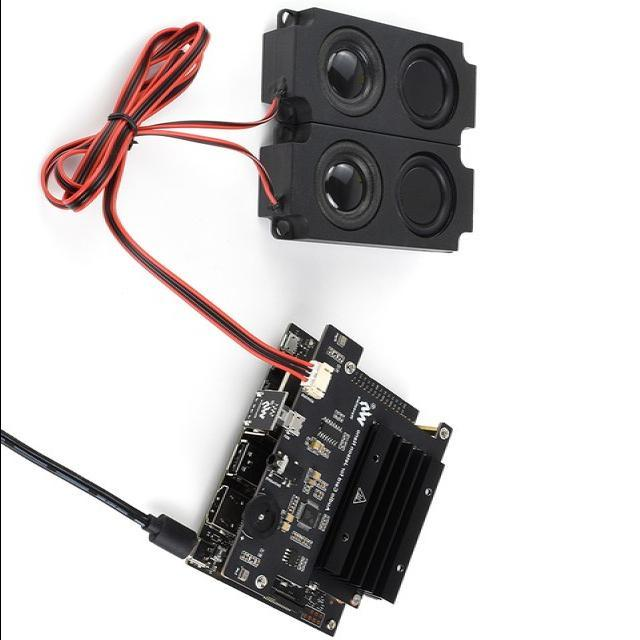Jetson Nano: (185, 324, 454, 638)
